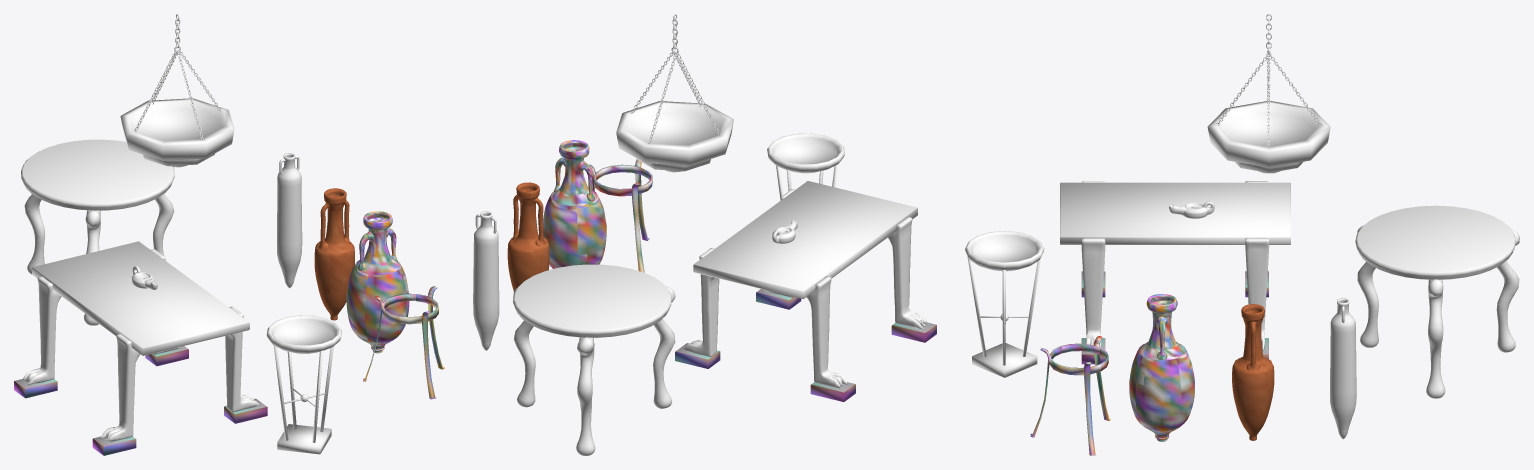
File: romanAssets.fbx
The picture shows the model from 3 angles, left to right: view 1: azimuth 30°, elevation 25°; view 2: azimuth 150°, elevation 25°; view 3: azimuth 270°, elevation 25°; orthographic projection. The views are drawn at different scales.
Visible parts, largest first — view 1: mensa02, mensa01, lux02, amphora03, lux01, amphora02, amphora01, stand; view 2: mensa02, mensa01, lux02, amphora03, amphora02, amphora01, lux01, stand; view 3: mensa02, mensa01, lux02, amphora03, lux01, amphora02, amphora01, stand, lucerna.
Part boxes in pixels (left/top/right/bottom): mensa02: left=14, top=241, right=267, bottom=455; mensa01: left=21, top=139, right=174, bottom=325; lux02: left=120, top=14, right=234, bottom=167; amphora03: left=346, top=211, right=409, bottom=353; lux01: left=266, top=315, right=341, bottom=454; amphora02: left=314, top=188, right=354, bottom=320; amphora01: left=277, top=153, right=302, bottom=288; stand: left=363, top=286, right=444, bottom=399; mensa02: left=675, top=181, right=936, bottom=401; mensa01: left=513, top=264, right=675, bottom=455; lux02: left=616, top=14, right=733, bottom=172; amphora03: left=543, top=140, right=606, bottom=268; amphora02: left=507, top=182, right=549, bottom=291; amphora01: left=473, top=211, right=499, bottom=350; lux01: left=767, top=133, right=844, bottom=200; stand: left=589, top=159, right=652, bottom=272; mensa02: left=1060, top=181, right=1290, bottom=364; mensa01: left=1355, top=205, right=1519, bottom=398; lux02: left=1207, top=14, right=1330, bottom=173; amphora03: left=1129, top=294, right=1194, bottom=441; lux01: left=965, top=231, right=1044, bottom=377; amphora02: left=1232, top=304, right=1274, bottom=440; amphora01: left=1330, top=298, right=1356, bottom=439; stand: left=1030, top=336, right=1110, bottom=455; lucerna: left=1169, top=201, right=1214, bottom=218.
Bounding box in the file's own units: 298 × 277 × 398.
